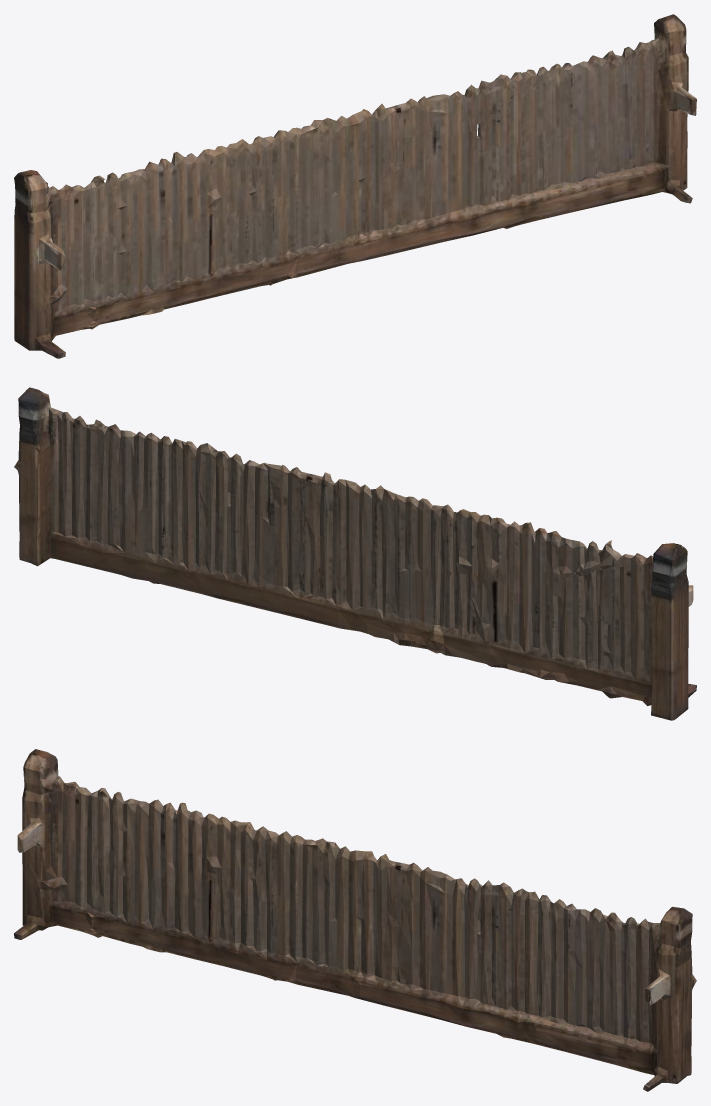
File: fence_picket_thin_long_lod0.glb
3 renders of one model, top to bottom at view 1: azimuth 30°, elevation 25°; view 2: azimuth 150°, elevation 25°; view 3: azimuth 330°, elevation 25°, orthographic.
Parts seen in each view (by area): view 1: fence_picket_thin_long_lod0; view 2: fence_picket_thin_long_lod0; view 3: fence_picket_thin_long_lod0.
Part boxes in pixels (x1=…): fence_picket_thin_long_lod0: x1=14, y1=14, x2=696, y2=358; fence_picket_thin_long_lod0: x1=14, y1=387, x2=696, y2=720; fence_picket_thin_long_lod0: x1=14, y1=749, x2=696, y2=1091.
Bounding box in the file's own units: 3.03 × 0.751 × 0.2775.
Materials: 1 (1 with a texture image).
